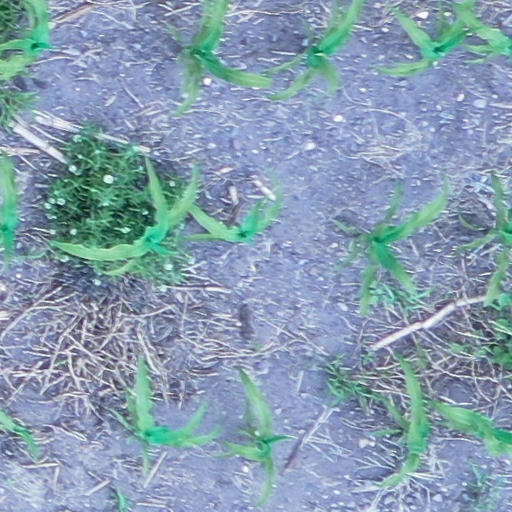planta: (49, 154, 199, 261), (357, 170, 456, 299), (219, 362, 296, 509), (112, 353, 223, 449), (372, 348, 428, 489), (174, 177, 284, 244), (426, 398, 511, 458)
